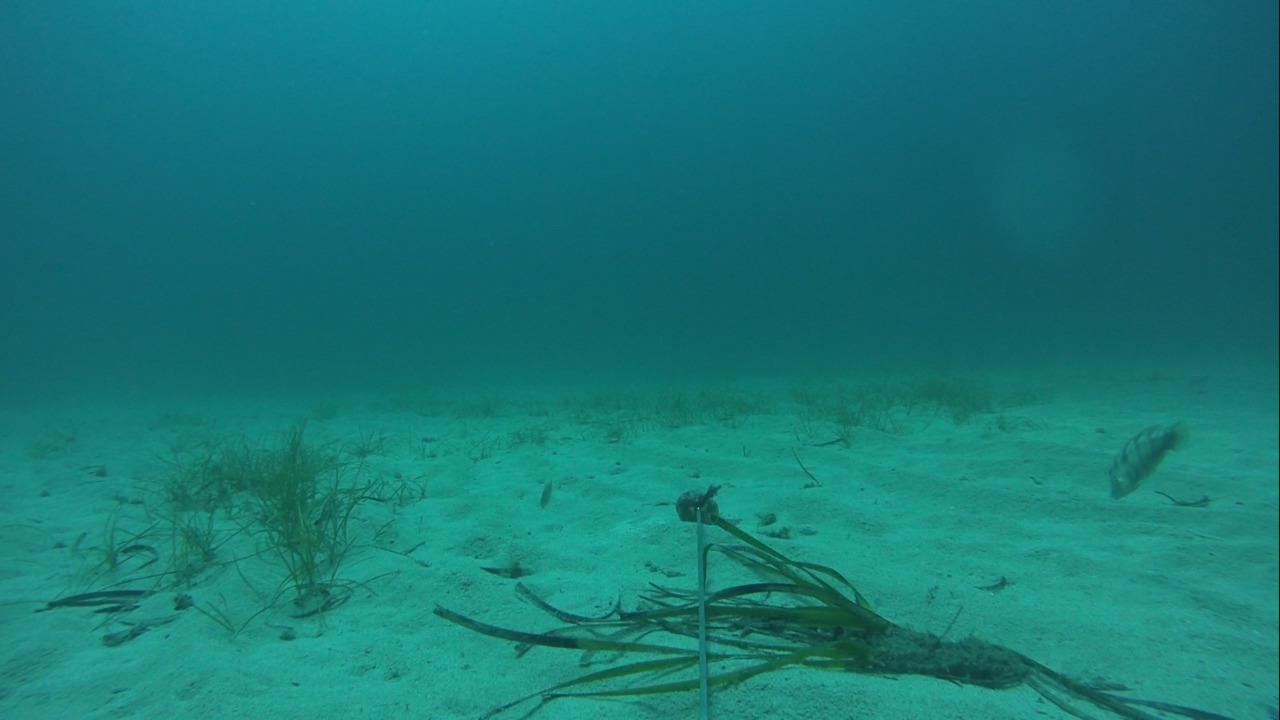raor: (1104, 415, 1190, 503), (537, 477, 554, 510)
